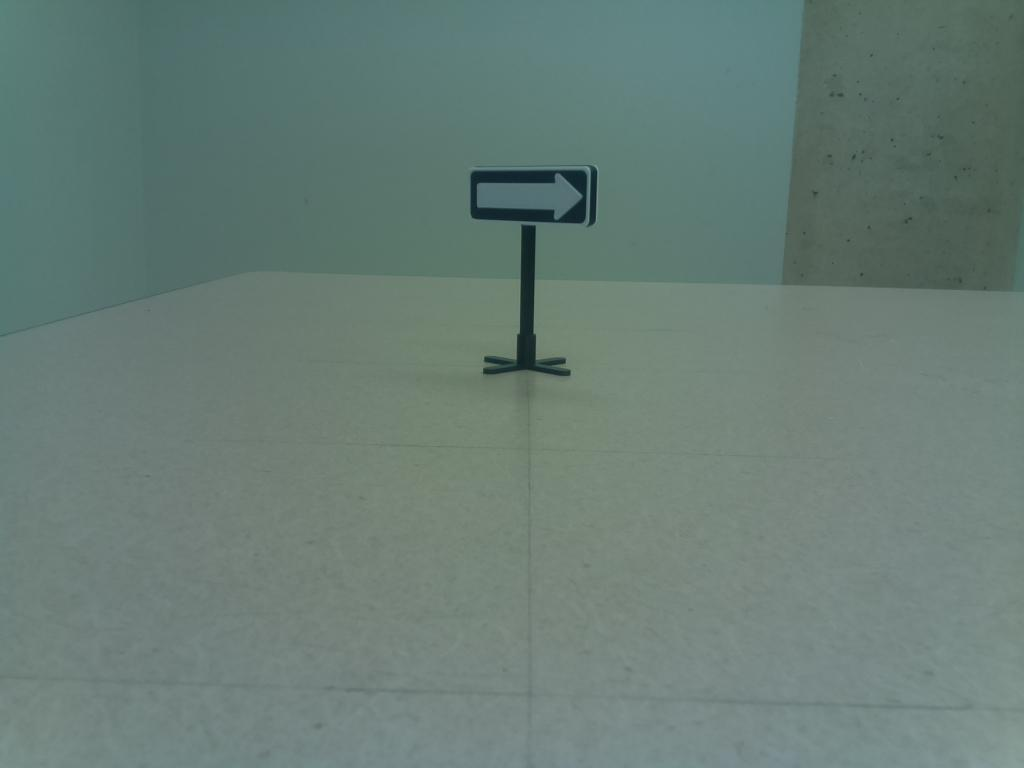sign_oneway_right: (462, 161, 602, 234)
